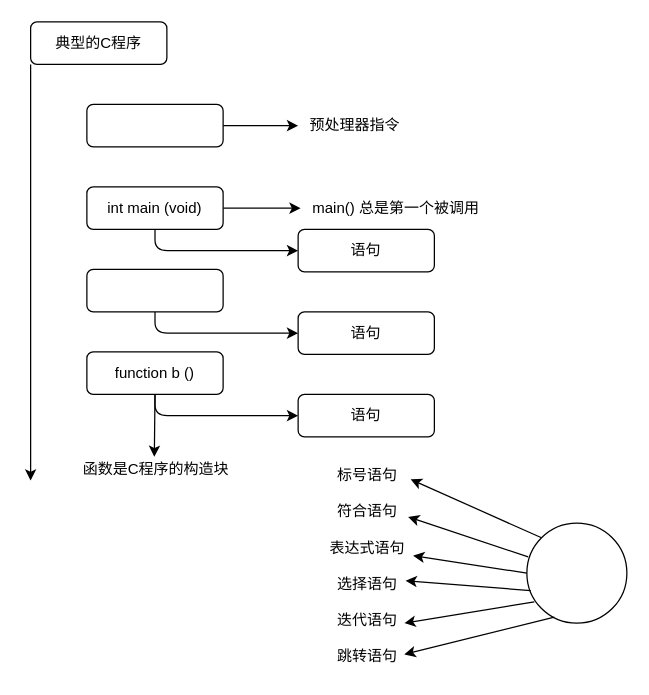
Image size: 649x695. Some labels were removed from this diagram. The shapes that lost their labels are listed below. From the top down, each one's box as (x1, y1, x2, y2) in pixels, then its label:
(86, 103, 223, 147): #include
(86, 268, 223, 312): function a ()
(526, 522, 627, 623): 关键字 标识符 运算符 数据
